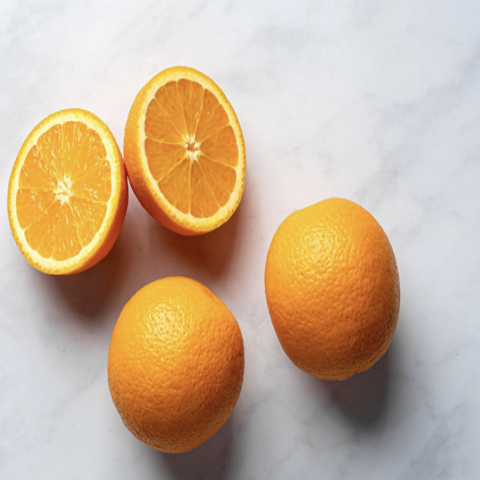orange: (251, 194, 407, 385), (95, 271, 255, 451)
